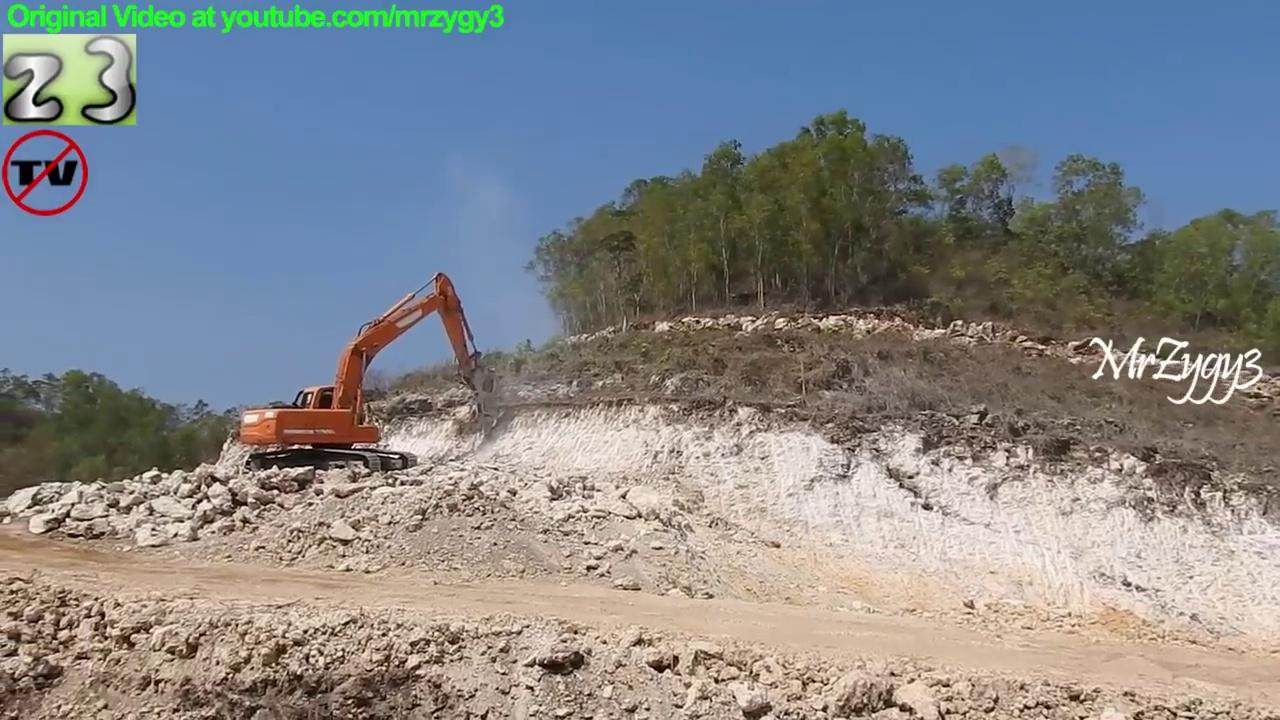excavator breaker: (229, 269, 500, 485)
